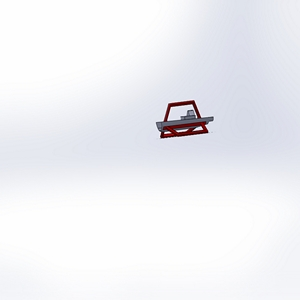submarine: (152, 85, 226, 156)
